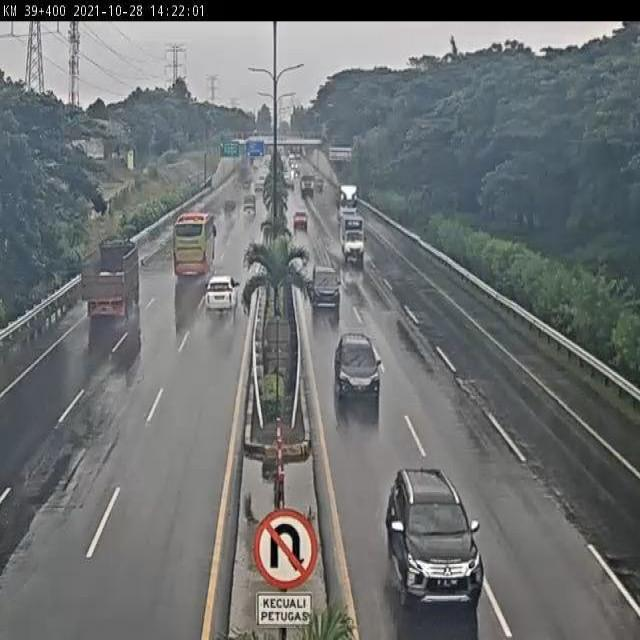big bus: (168, 212, 216, 285)
car: (381, 466, 485, 610), (331, 332, 380, 407), (307, 261, 341, 304), (204, 274, 239, 314), (292, 206, 309, 230)
truck-m-: (74, 242, 141, 322)
truck-s-: (342, 215, 365, 261)
